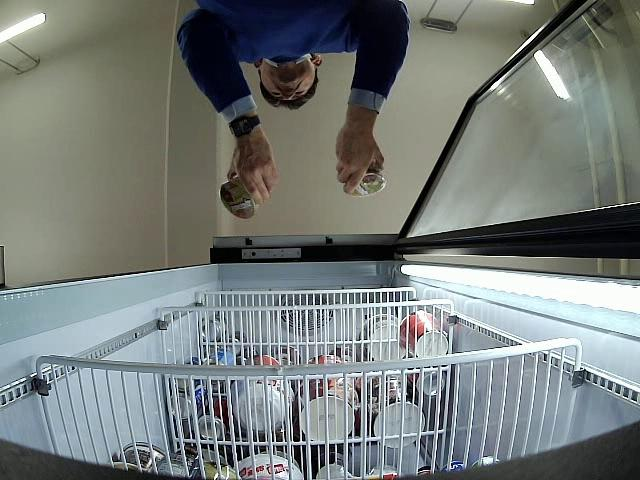00_hand: (337, 116, 384, 194), (227, 139, 277, 205)
04_chapagetti_S: (219, 176, 261, 221), (355, 166, 387, 197)
